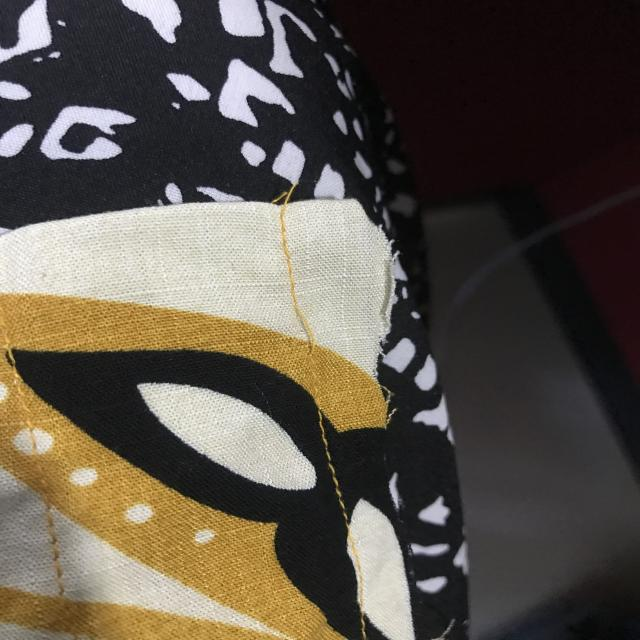skip: (283, 300, 332, 364)
